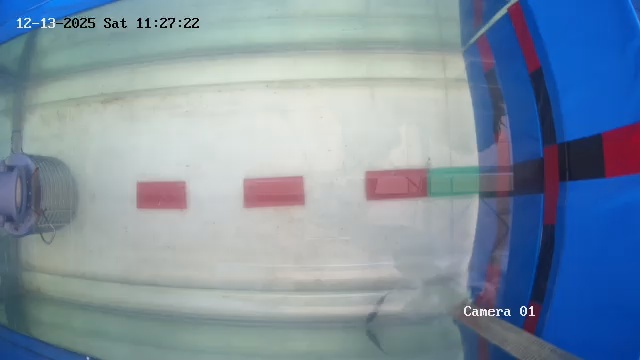fish: (321, 305, 354, 328)
